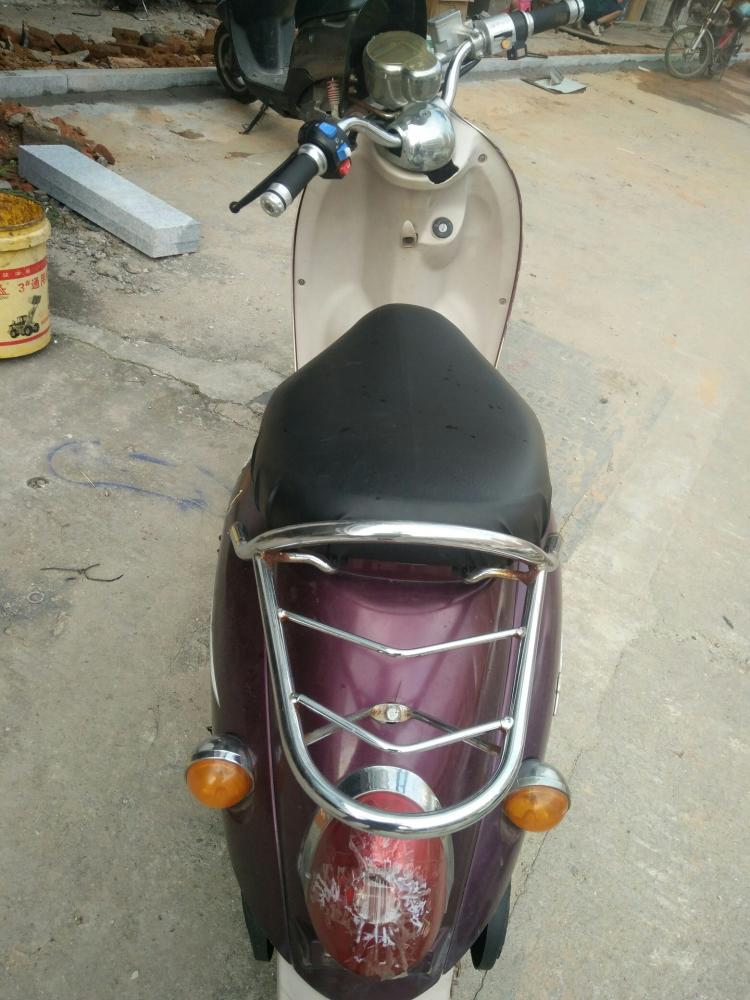电动车: (175, 1, 572, 997)
